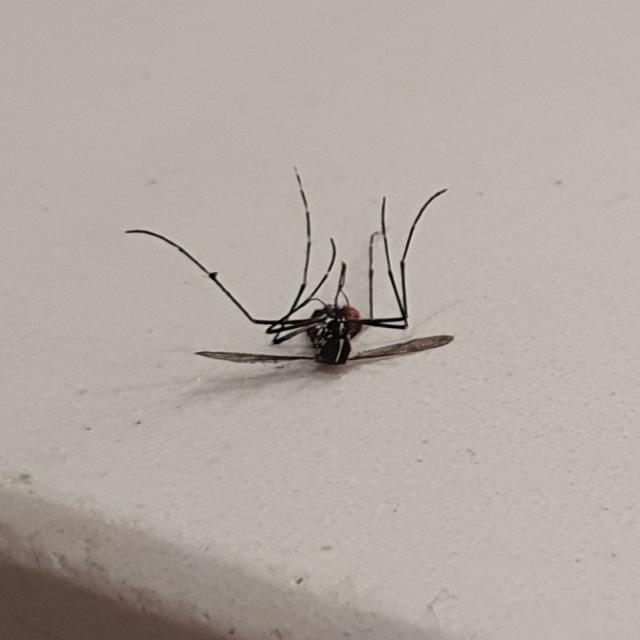albopictus: (116, 164, 472, 386)
